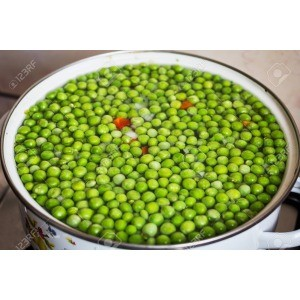green pea_brain food: (111, 116, 193, 185)
